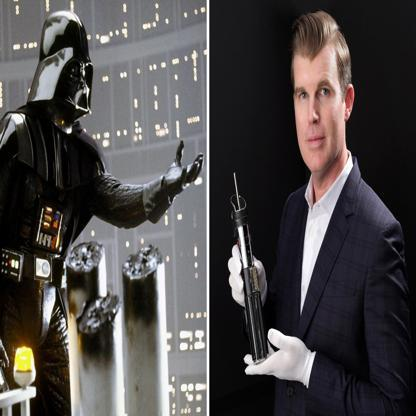person: (210, 1, 415, 414), (2, 4, 211, 408)
